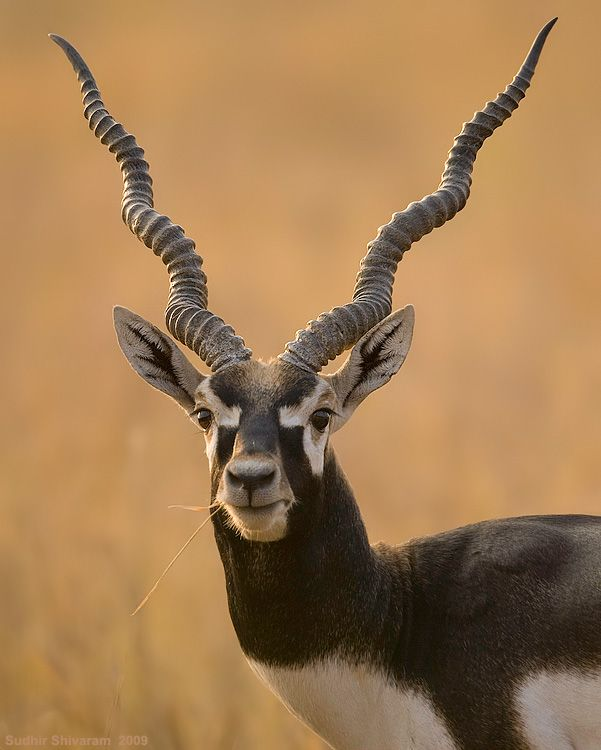Blackbuck: (49, 14, 601, 750), (47, 12, 599, 748)
